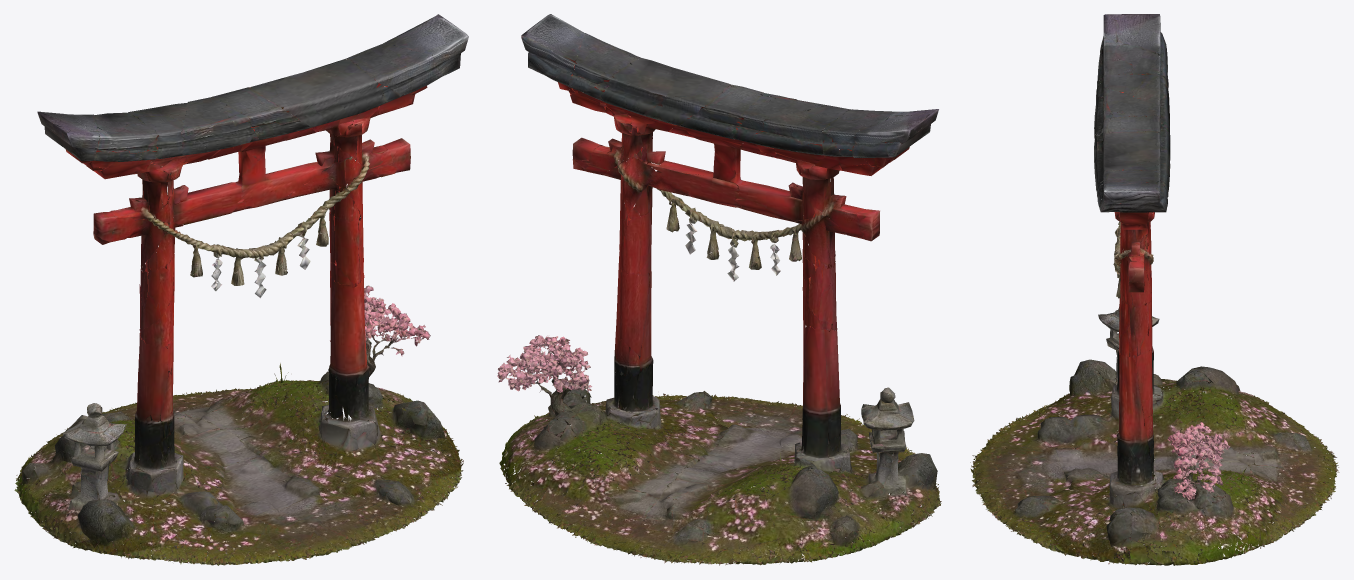
File: torii.glb
The picture shows the model from 3 angles, left to right: view 1: azimuth 30°, elevation 25°; view 2: azimuth 150°, elevation 25°; view 3: azimuth 270°, elevation 25°; orthographic projection. The views are drawn at different scales.
Visible parts, largest first — view 1: Mesh_0; view 2: Mesh_0; view 3: Mesh_0.
Part boxes in pixels (bbox=[...]): Mesh_0: bbox=[14, 14, 468, 565]; Mesh_0: bbox=[497, 14, 941, 565]; Mesh_0: bbox=[970, 14, 1339, 565].
Size of the model in its own units: 1.87 by 1.81 by 1.61.
1 material, 1 textured.
